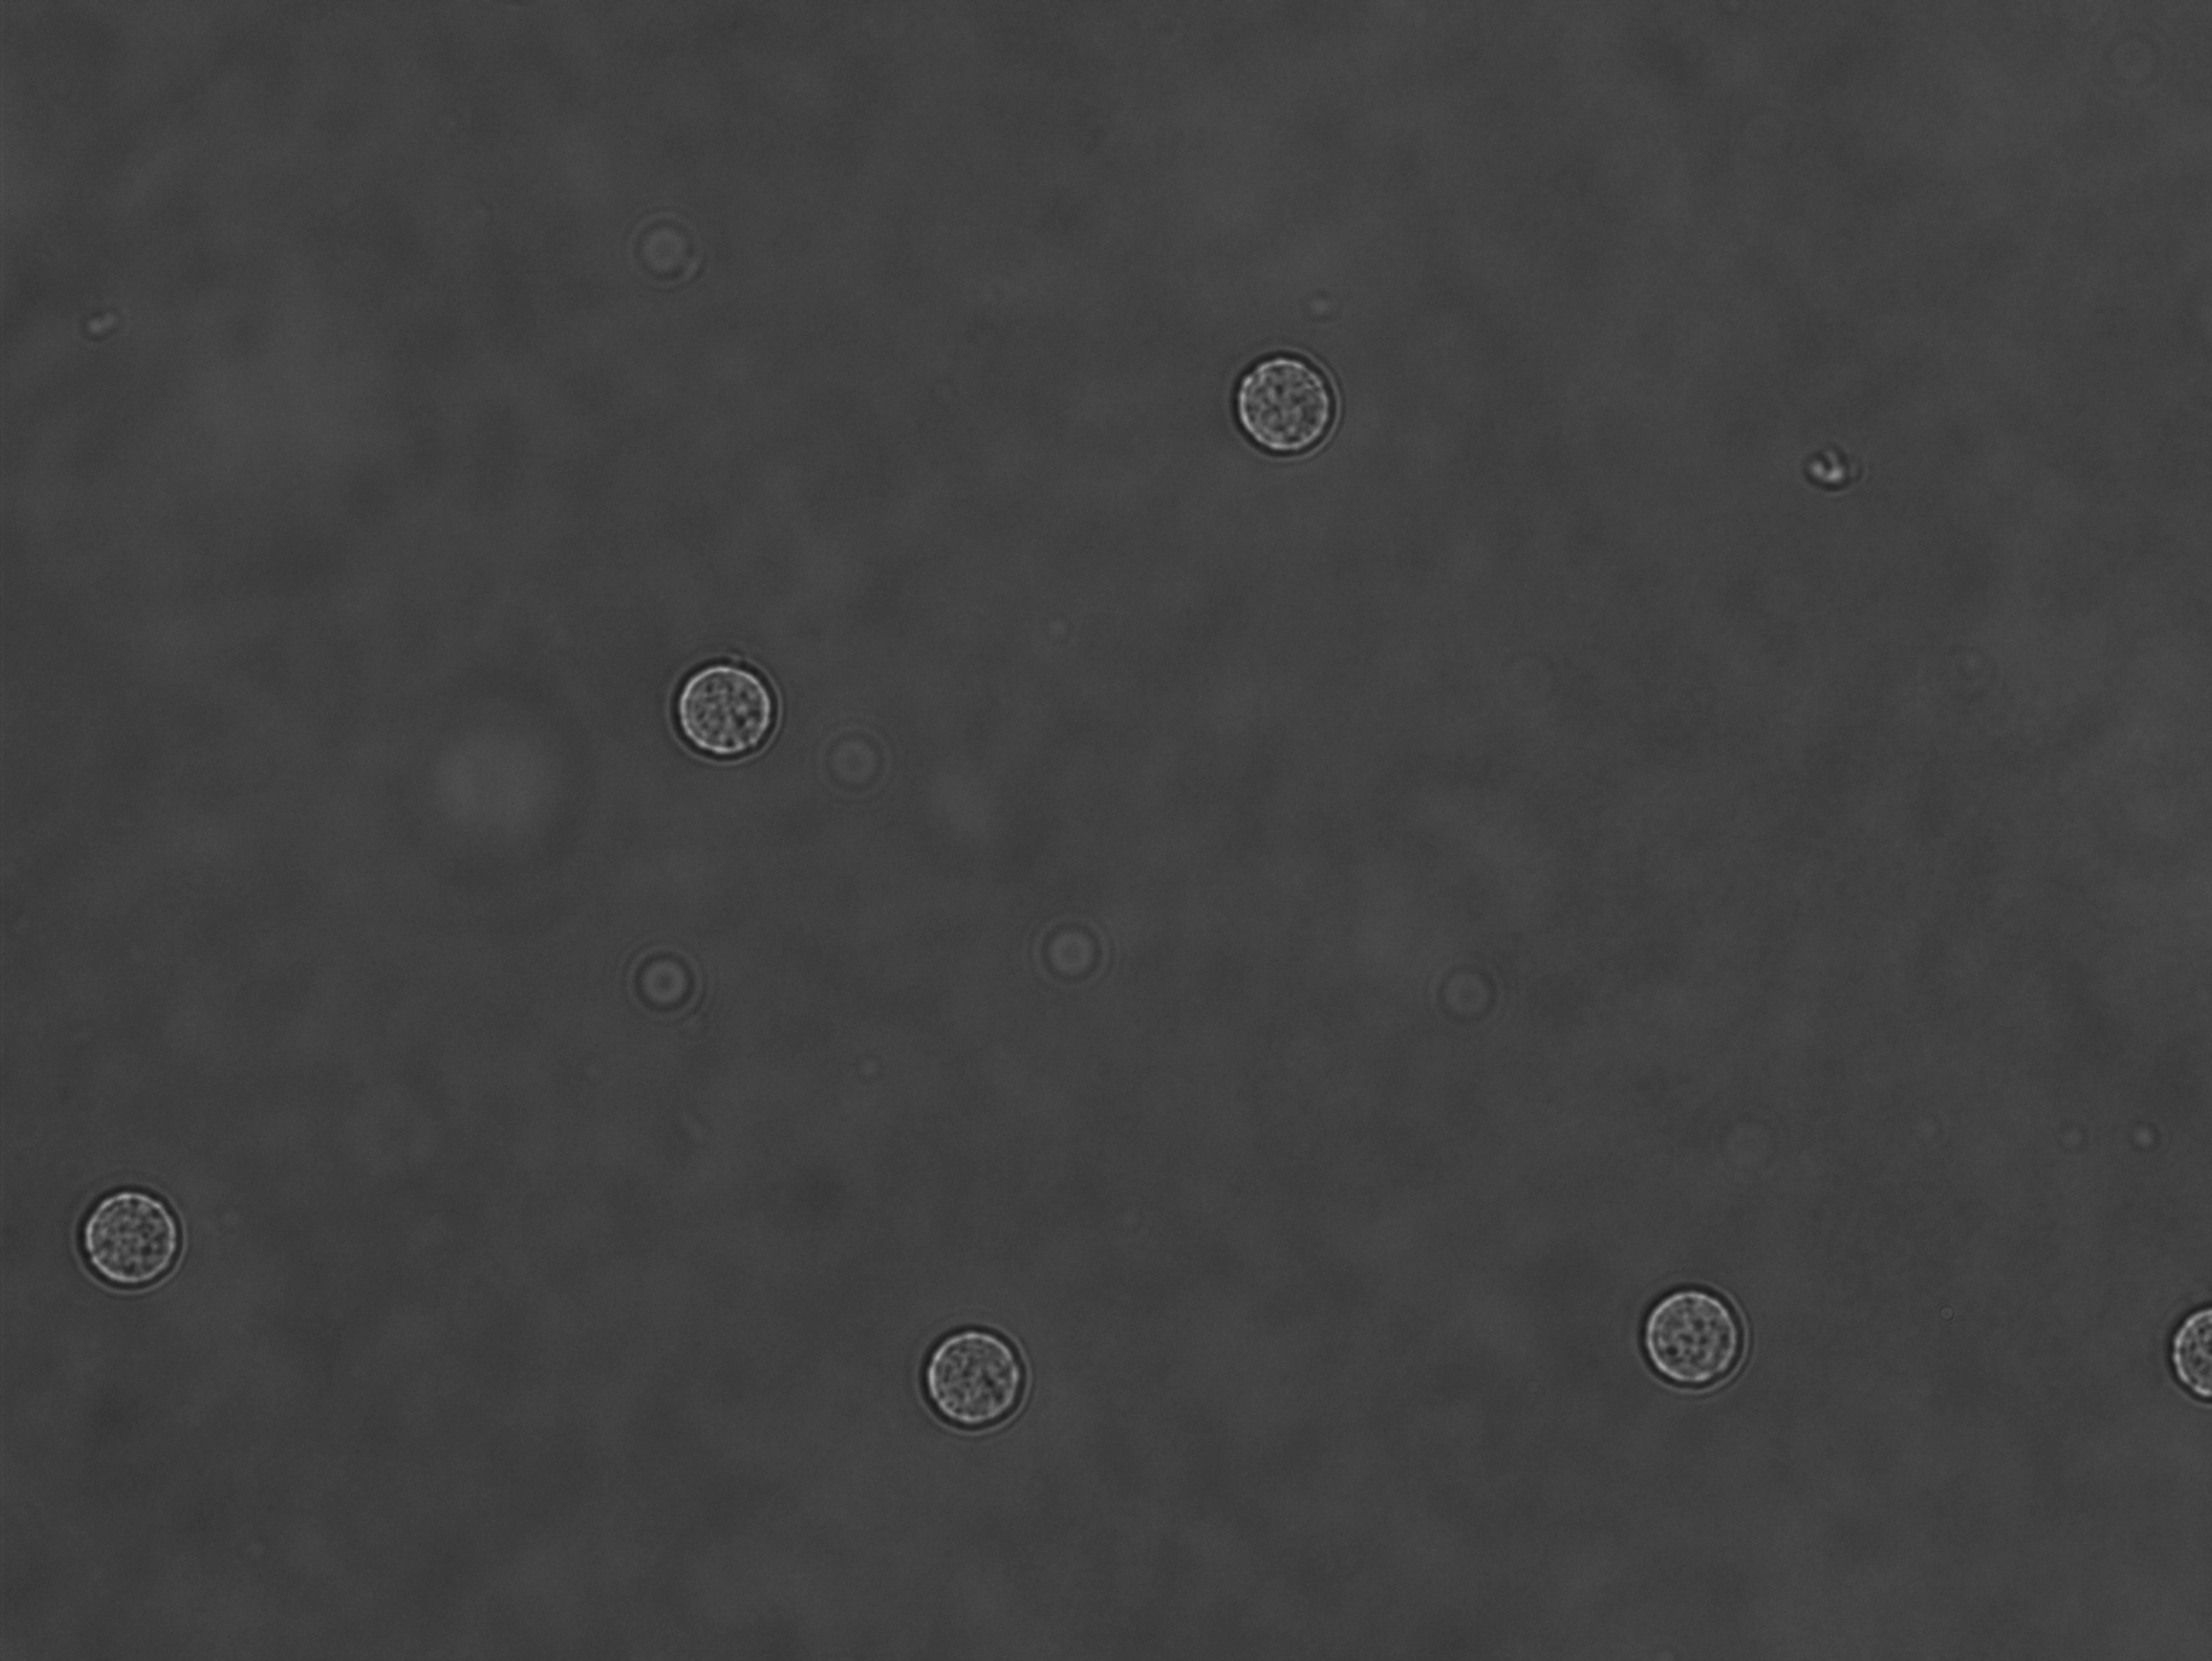depth:0: (904, 1284, 1059, 1459), (1621, 1260, 1767, 1408), (649, 640, 785, 776), (68, 1159, 192, 1307), (1221, 345, 1357, 466)
